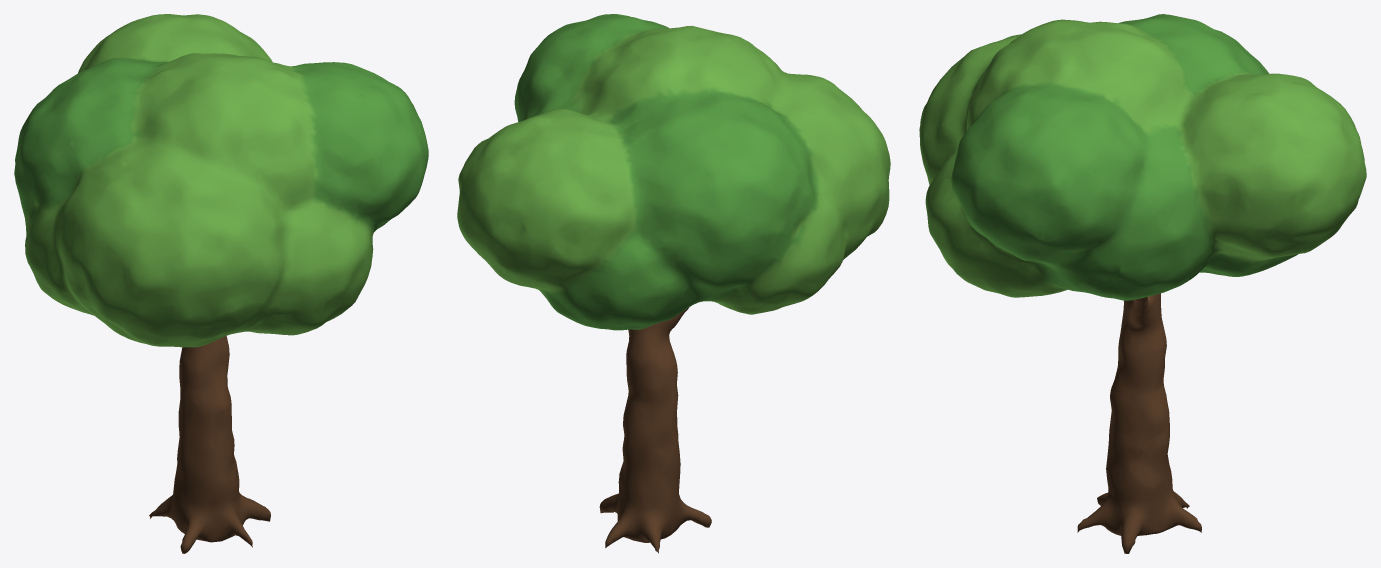
File: tree_round2.glb
3 views of the same model, side by side, from view 1: azimuth 30°, elevation 25°; view 2: azimuth 150°, elevation 25°; view 3: azimuth 270°, elevation 25° (orthographic). The views are drawn at different scales.
Visible parts, largest first — view 1: tree_round2; view 2: tree_round2; view 3: tree_round2.
Boxes of the visible parts, <box> form: tree_round2: <box>14,14,428,553</box>; tree_round2: <box>457,14,890,553</box>; tree_round2: <box>919,14,1366,553</box>.
Bounding box in the file's own units: 3.87 × 5.19 × 4.28.
